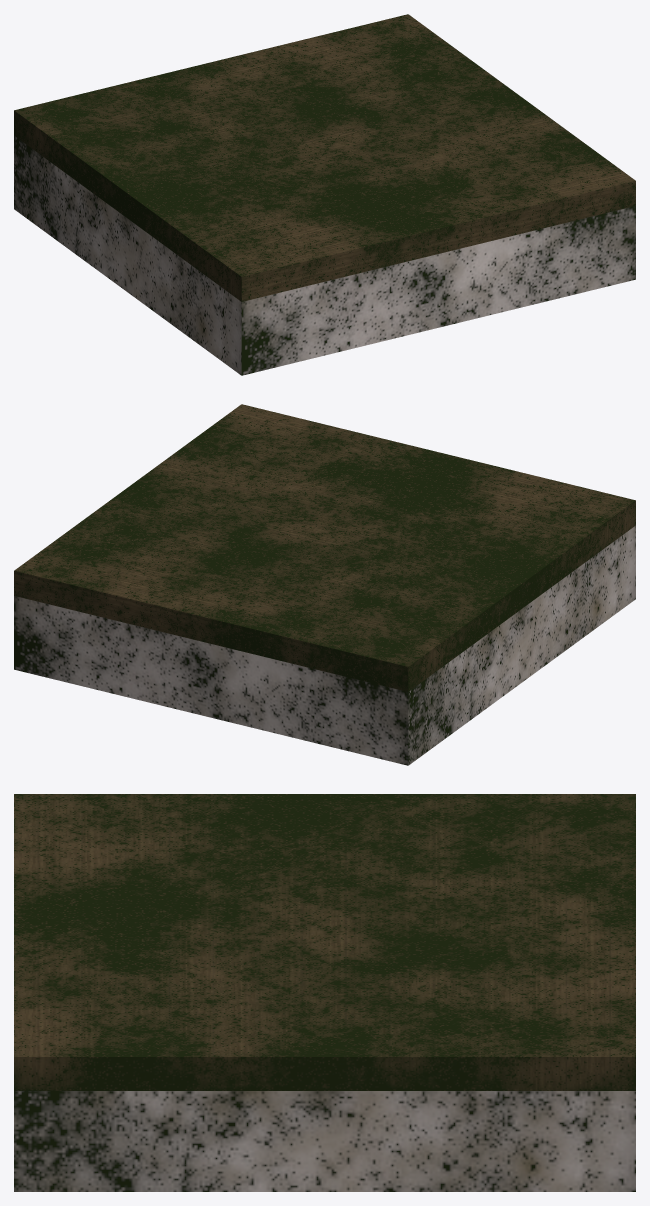
The model's file is shrine_floor_normal_01.fbx.
The picture shows the model from 3 angles, top to bottom: view 1: azimuth 30°, elevation 25°; view 2: azimuth 150°, elevation 25°; view 3: azimuth 270°, elevation 25°; orthographic projection. The views are drawn at different scales.
Parts seen in each view (by area): view 1: shrine_floor_normal_01; view 2: shrine_floor_normal_01; view 3: shrine_floor_normal_01.
Boxes of the visible parts, <box> form: shrine_floor_normal_01: <box>14,14,635,375</box>; shrine_floor_normal_01: <box>14,404,635,765</box>; shrine_floor_normal_01: <box>14,794,635,1191</box>.
Size of the model in its own units: 330 by 79.03 by 330.
Materials: 1 (1 with a texture image).
